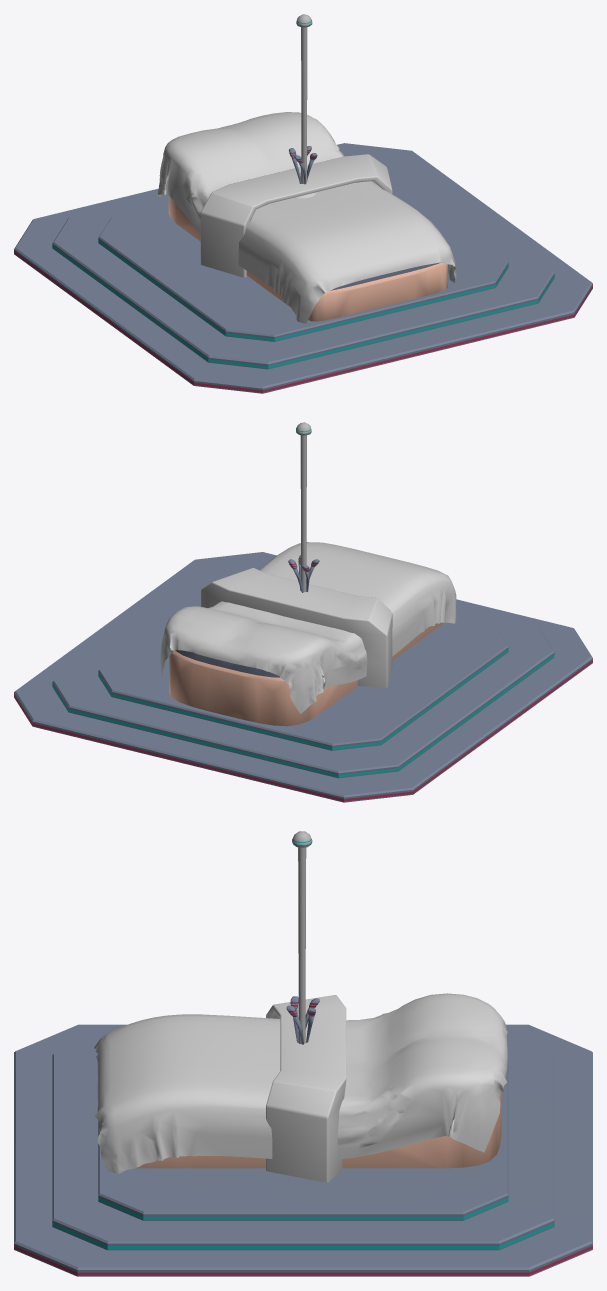
Rendered from Props.fbx.
The picture shows the model from 3 angles, top to bottom: view 1: azimuth 30°, elevation 25°; view 2: azimuth 150°, elevation 25°; view 3: azimuth 270°, elevation 25°; orthographic projection. The views are drawn at different scales.
Parts seen in each view (by area): view 1: Plane001.001, Plane002.001, Plane003.002, Plane004.001, Box001.001, bed.001, Cylinder.016; view 2: Plane002.001, Plane001.001, Plane003.002, Plane004.001, Box001.001, bed.001, Cylinder.016; view 3: Plane001.001, Plane002.001, Plane003.002, Plane004.001, Box001.001, bed.001, Cylinder.016, Box002.001.
Boxes of the visible parts, <box> form: Plane001.001: <box>157,112,456,323</box>; Plane002.001: <box>14,143,592,393</box>; Plane003.002: <box>52,151,554,369</box>; Plane004.001: <box>98,174,508,341</box>; Box001.001: <box>200,154,392,277</box>; bed.001: <box>168,195,447,321</box>; Cylinder.016: <box>296,14,312,183</box>; Plane002.001: <box>14,552,592,802</box>; Plane001.001: <box>160,542,456,713</box>; Plane003.002: <box>52,560,554,778</box>; Plane004.001: <box>98,576,508,750</box>; Box001.001: <box>200,568,392,687</box>; bed.001: <box>169,622,443,726</box>; Cylinder.016: <box>296,422,311,592</box>; Plane001.001: <box>94,993,507,1173</box>; Plane002.001: <box>14,1024,592,1276</box>; Plane003.002: <box>52,1030,554,1250</box>; Plane004.001: <box>98,1059,508,1220</box>; Box001.001: <box>266,995,346,1182</box>; bed.001: <box>136,1093,501,1168</box>; Cylinder.016: <box>292,831,312,1044</box>; Box002.001: <box>286,996,319,1044</box>.
Size of the model in its own units: 753 by 486 by 753.
